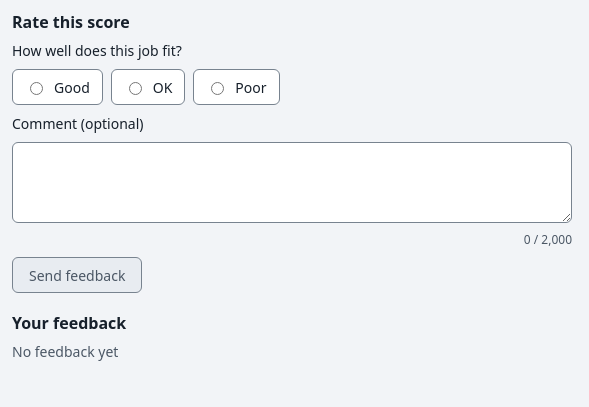
FeedbackTab › 409 shows the message
Click the radio button labelled "OK" at (135, 88), box x1=129 y1=82 x2=142 y2=95
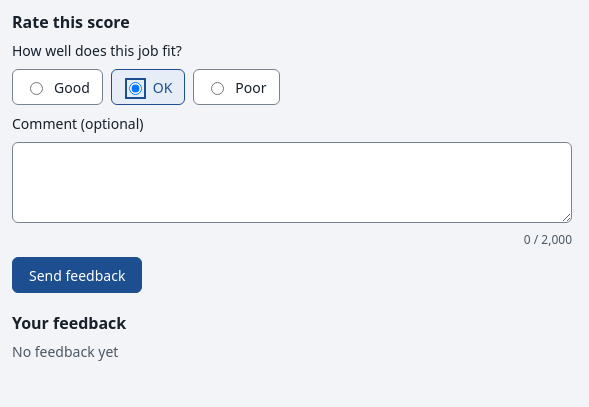
Click the button "Send feedback" at (77, 275), box x1=12 y1=257 x2=142 y2=293
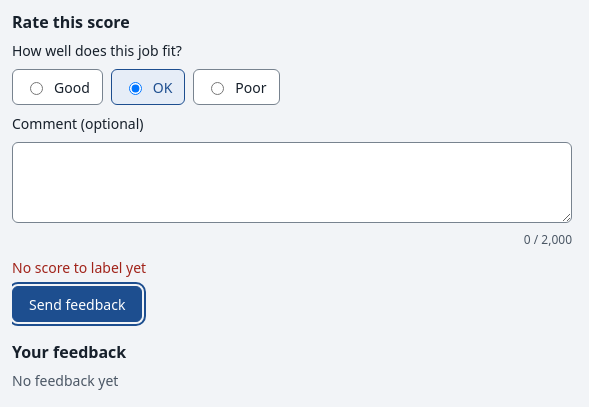
Expected: the message reads "No score to label yet", x1=12 y1=258 x2=146 y2=277
